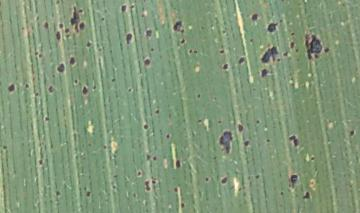tarspot: (303, 31, 323, 61), (69, 5, 85, 34), (259, 44, 279, 65), (218, 129, 234, 155), (172, 19, 185, 34), (287, 133, 299, 147), (289, 172, 298, 190), (266, 21, 278, 34), (55, 62, 67, 74), (125, 32, 133, 47), (300, 190, 310, 200), (174, 159, 183, 170), (260, 67, 268, 79), (81, 84, 89, 96), (143, 180, 151, 192), (55, 30, 62, 43), (7, 83, 16, 93), (236, 122, 244, 133), (250, 12, 258, 23), (144, 28, 152, 39), (237, 56, 246, 65), (221, 62, 230, 71), (348, 128, 356, 138), (120, 3, 127, 14), (220, 176, 228, 185), (179, 37, 187, 46), (47, 85, 55, 94), (37, 158, 45, 167), (85, 39, 92, 49), (289, 39, 295, 50), (242, 139, 250, 147), (143, 58, 151, 66), (144, 153, 152, 161), (43, 21, 50, 30), (179, 201, 186, 210), (69, 56, 75, 66), (323, 46, 331, 53), (164, 132, 171, 140), (153, 108, 160, 116), (63, 27, 71, 34), (195, 92, 202, 100), (84, 190, 91, 198), (54, 190, 62, 197), (218, 48, 225, 55), (142, 123, 149, 130), (289, 31, 296, 38), (43, 115, 50, 122), (128, 3, 135, 10), (309, 155, 316, 162), (150, 178, 157, 185), (110, 183, 117, 190), (220, 28, 227, 35), (282, 50, 288, 58), (63, 33, 71, 39), (57, 22, 63, 30), (254, 118, 260, 126), (254, 173, 260, 181), (204, 175, 210, 183), (1, 144, 9, 150), (188, 47, 193, 56), (173, 185, 178, 194), (24, 82, 30, 89), (34, 91, 40, 98), (264, 137, 271, 143), (151, 155, 157, 162), (126, 87, 133, 93), (110, 77, 117, 83), (192, 49, 199, 55), (216, 119, 223, 125), (248, 36, 254, 43), (33, 50, 39, 56), (196, 118, 202, 124), (73, 78, 78, 85), (149, 46, 154, 53), (279, 190, 284, 197), (102, 144, 107, 151), (276, 57, 281, 63), (37, 53, 43, 58), (100, 16, 105, 22), (137, 170, 141, 177), (54, 1, 60, 5)
